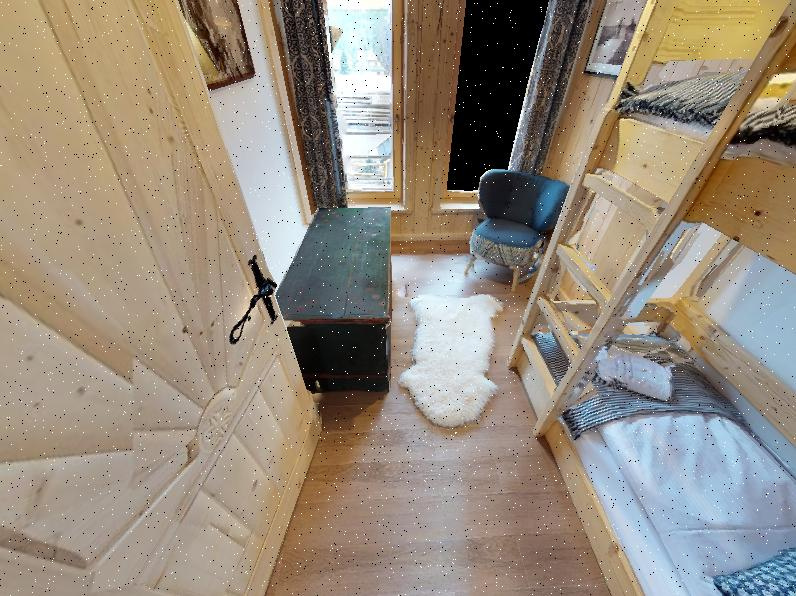door: (0, 0, 337, 596)
sofa: (462, 154, 579, 301)
